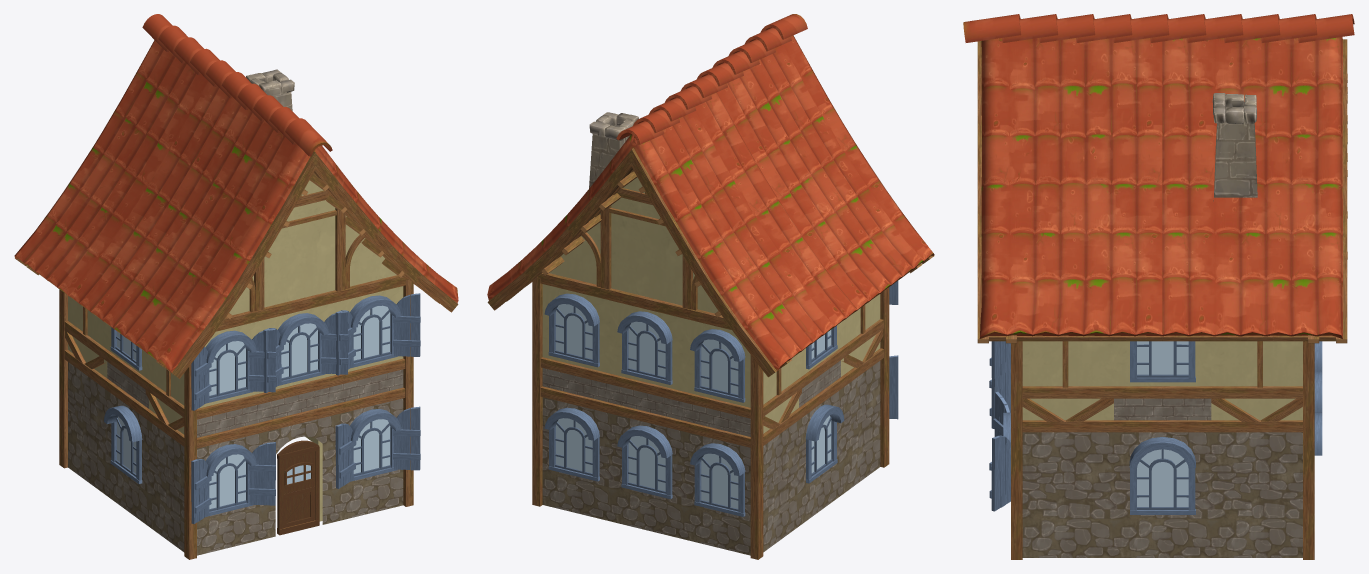
Rendered from house_yellow.glb.
3 renders of one model, left to right at view 1: azimuth 30°, elevation 25°; view 2: azimuth 150°, elevation 25°; view 3: azimuth 270°, elevation 25°, orthographic. The views are drawn at different scales.
Visible parts, largest first — view 1: Roof_RoundTiles_6x6, Wall_UnevenBrick_Door_Round, Wall_UnevenBrick_Window_Wide_Round, Window_Wide_Round1, Wall_Plaster_Window_Wide_Round, Prop_Chimney; view 2: Roof_RoundTiles_6x6, Wall_UnevenBrick_Window_Wide_Round, Wall_UnevenBrick_Door_Round, Window_Wide_Round1, Wall_Plaster_Window_Wide_Round, Prop_Chimney; view 3: Roof_RoundTiles_6x6, Wall_UnevenBrick_Window_Wide_Round, Wall_UnevenBrick_Door_Round, Window_Wide_Round1, Prop_Chimney, Wall_Plaster_Window_Wide_Round.
Part boxes in pixels (left/top/right/bottom): Roof_RoundTiles_6x6: left=14, top=14, right=458, bottom=372; Wall_UnevenBrick_Door_Round: left=59, top=174, right=413, bottom=559; Wall_UnevenBrick_Window_Wide_Round: left=15, top=111, right=458, bottom=555; Window_Wide_Round1: left=104, top=293, right=420, bottom=523; Wall_Plaster_Window_Wide_Round: left=107, top=362, right=403, bottom=437; Prop_Chimney: left=246, top=69, right=294, bottom=110; Roof_RoundTiles_6x6: left=487, top=14, right=934, bottom=370; Wall_UnevenBrick_Window_Wide_Round: left=487, top=148, right=934, bottom=555; Wall_UnevenBrick_Door_Round: left=532, top=171, right=889, bottom=559; Window_Wide_Round1: left=544, top=281, right=898, bottom=516; Wall_Plaster_Window_Wide_Round: left=542, top=360, right=840, bottom=436; Prop_Chimney: left=589, top=112, right=638, bottom=188; Roof_RoundTiles_6x6: left=963, top=14, right=1354, bottom=338; Wall_UnevenBrick_Window_Wide_Round: left=977, top=39, right=1347, bottom=557; Wall_UnevenBrick_Door_Round: left=1011, top=74, right=1347, bottom=559; Window_Wide_Round1: left=989, top=341, right=1322, bottom=514; Prop_Chimney: left=1212, top=93, right=1257, bottom=201; Wall_Plaster_Window_Wide_Round: left=1114, top=398, right=1211, bottom=420.
Size of the model in its own units: 8.25 by 10.89 by 8.03.
Materials: 8 (7 with a texture image).
